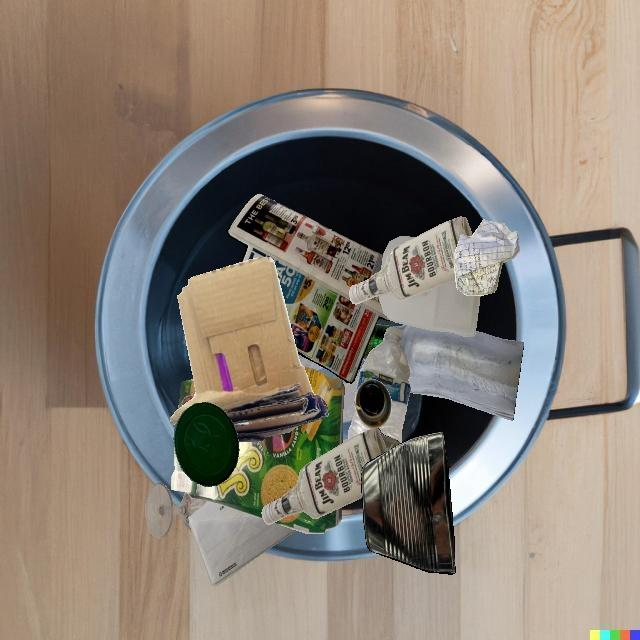cardboard: (170, 257, 328, 442), (242, 366, 344, 491)
glass: (362, 324, 524, 421), (262, 428, 387, 524), (349, 216, 472, 304), (145, 483, 209, 538), (354, 379, 392, 428), (342, 506, 343, 507)
metal: (361, 431, 455, 574), (372, 427, 401, 451)
paper: (227, 193, 390, 383), (188, 501, 297, 586), (454, 219, 520, 296)
plastic: (355, 326, 411, 443), (379, 279, 480, 336), (173, 402, 239, 486)
